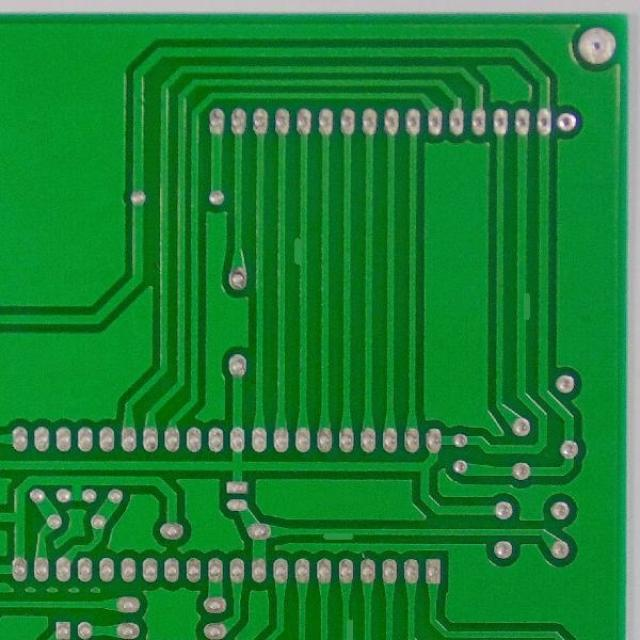Spur: (512, 287, 534, 327), (290, 230, 309, 272), (317, 524, 358, 543), (340, 612, 358, 640)
